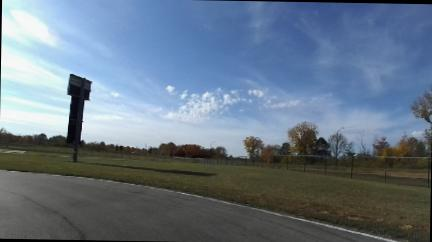Grass: (0, 154, 430, 241)
Lane: (0, 172, 387, 241)
